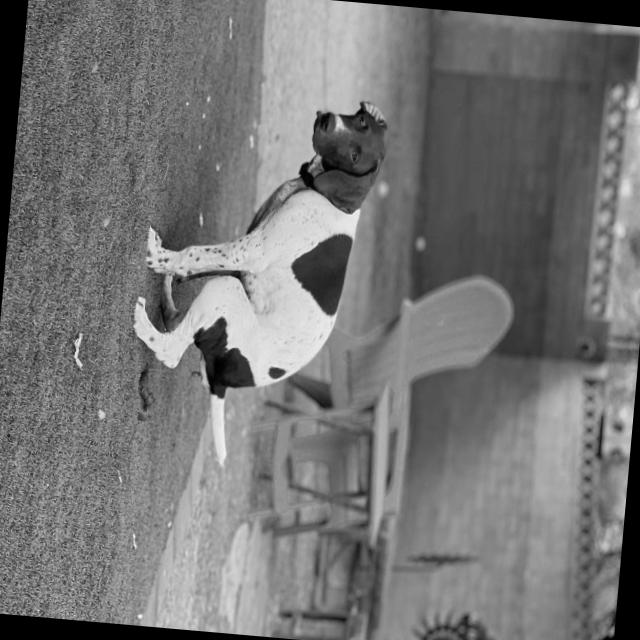squatting: (114, 78, 400, 484)
